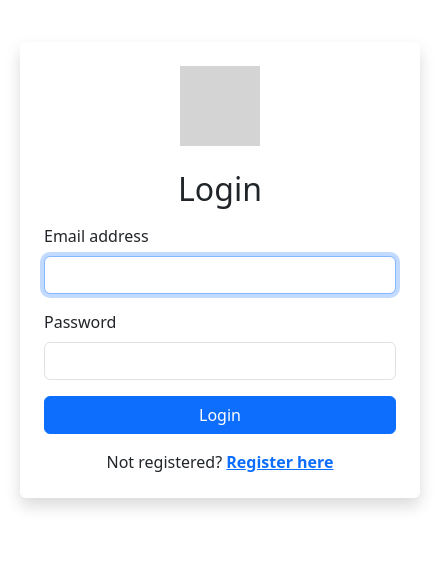
it: Login Component › shows error on failed login
Type "wrong@mail.com" into the field labelled "Email address" at (220, 275), box [44,256,396,294]
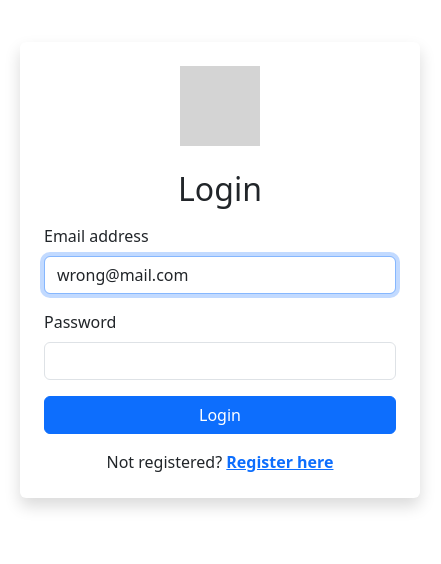
Type "wrongpass" into the password field labelled "Password" at (220, 361), box [44,342,396,380]
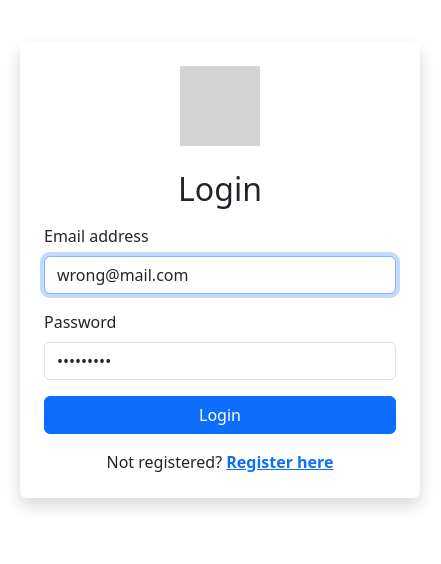
Click the button "Login" at (220, 415), box [44,396,396,434]
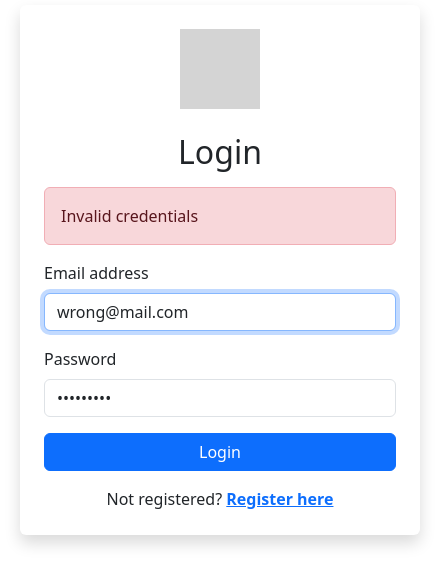
Result: the text "Invalid credentials" is shown at [44,187,396,245]
